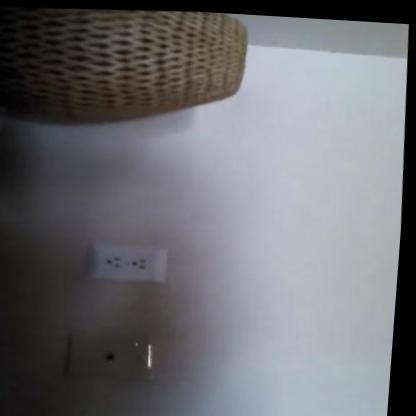OUTLET: (87, 241, 168, 285)
